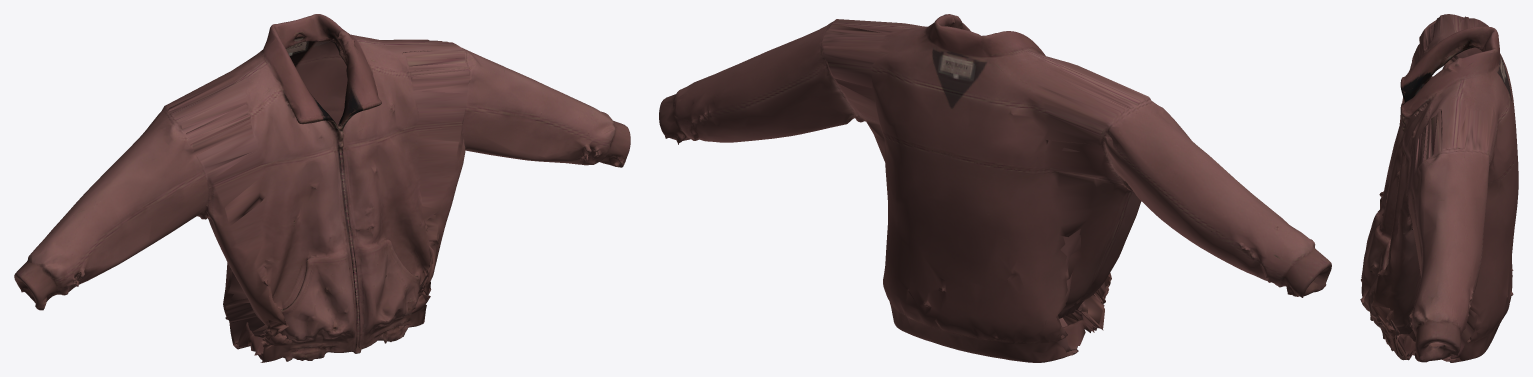
The model's file is cloth_fitted.glb.
The picture shows the model from 3 angles, left to right: view 1: azimuth 30°, elevation 25°; view 2: azimuth 150°, elevation 25°; view 3: azimuth 270°, elevation 25°; orthographic projection. The views are drawn at different scales.
Parts seen in each view (by area): view 1: Mesh_0; view 2: Mesh_0; view 3: Mesh_0.
Part boxes in pixels (x1,y1,x2,y2): Mesh_0: [14, 14, 630, 362]; Mesh_0: [659, 14, 1331, 362]; Mesh_0: [1360, 14, 1518, 362].
Bounding box in the file's own units: 1.69 × 0.7842 × 0.3904.
Materials: 1 (1 with a texture image).
